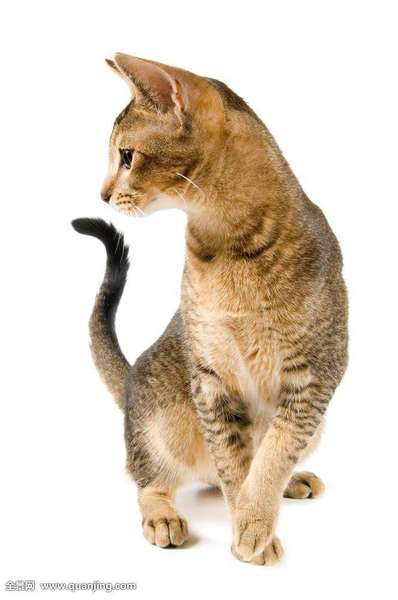cat: (72, 42, 300, 237)
